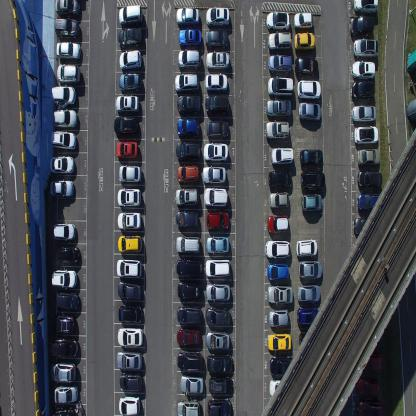car: (47, 336, 78, 358), (176, 350, 204, 373), (117, 25, 142, 48), (176, 304, 202, 326), (117, 326, 143, 348), (113, 115, 139, 137), (55, 63, 81, 85), (116, 349, 143, 370), (353, 217, 381, 237), (118, 48, 142, 71), (203, 186, 228, 208), (207, 352, 232, 374), (205, 6, 230, 28), (269, 354, 294, 376), (353, 38, 378, 60), (349, 14, 374, 36), (297, 78, 322, 100), (118, 302, 143, 324), (117, 280, 142, 302), (55, 290, 80, 312), (176, 280, 202, 301), (266, 98, 292, 119), (267, 76, 293, 97), (55, 41, 81, 62), (49, 154, 75, 175), (53, 19, 80, 39), (51, 109, 78, 129), (50, 130, 77, 150), (50, 269, 78, 288), (298, 100, 321, 123), (176, 116, 200, 138), (205, 93, 229, 115), (178, 48, 202, 70), (352, 79, 376, 101), (265, 119, 289, 141), (266, 10, 290, 32), (205, 330, 230, 351), (174, 73, 199, 94), (300, 170, 325, 191), (118, 4, 143, 25), (204, 258, 230, 278), (205, 282, 231, 302), (176, 258, 202, 278), (267, 284, 293, 304), (264, 238, 290, 258), (116, 258, 142, 278), (116, 187, 142, 207), (50, 363, 77, 382), (175, 186, 198, 208), (206, 209, 230, 230), (176, 163, 200, 184), (177, 94, 201, 115), (205, 29, 229, 50), (351, 59, 375, 80), (297, 306, 321, 327), (268, 169, 292, 190), (179, 374, 204, 394), (357, 169, 382, 189), (116, 210, 141, 230), (51, 86, 76, 106), (53, 384, 78, 404), (55, 0, 81, 19), (356, 397, 383, 415), (300, 192, 322, 214), (118, 394, 140, 416), (116, 139, 139, 160), (203, 142, 227, 162), (206, 306, 230, 326), (208, 374, 232, 394), (204, 72, 228, 92), (175, 6, 199, 26), (360, 327, 384, 347), (357, 192, 381, 212), (298, 258, 322, 278), (294, 56, 318, 76), (268, 53, 292, 73), (267, 31, 291, 51), (118, 164, 142, 184), (118, 72, 142, 92), (50, 178, 74, 198), (298, 331, 323, 350), (354, 125, 379, 144), (117, 235, 142, 254), (51, 314, 76, 333), (362, 351, 384, 372), (298, 283, 320, 304), (295, 238, 318, 258), (176, 142, 200, 161), (176, 235, 200, 254), (175, 210, 199, 229), (206, 235, 230, 254), (178, 28, 202, 47), (267, 332, 291, 351), (299, 148, 323, 167), (116, 94, 140, 113), (52, 222, 76, 241), (207, 397, 232, 415), (176, 398, 201, 416), (267, 214, 289, 234), (202, 165, 225, 184), (206, 51, 229, 70), (357, 377, 380, 396), (357, 147, 380, 166), (266, 262, 289, 281), (119, 372, 142, 391), (176, 328, 200, 346), (206, 120, 230, 138), (352, 104, 376, 122), (294, 31, 314, 52), (271, 147, 294, 165), (293, 10, 313, 30), (268, 378, 290, 396), (58, 246, 80, 264), (352, 0, 379, 14), (268, 308, 289, 326), (269, 191, 289, 209), (51, 406, 77, 416)
